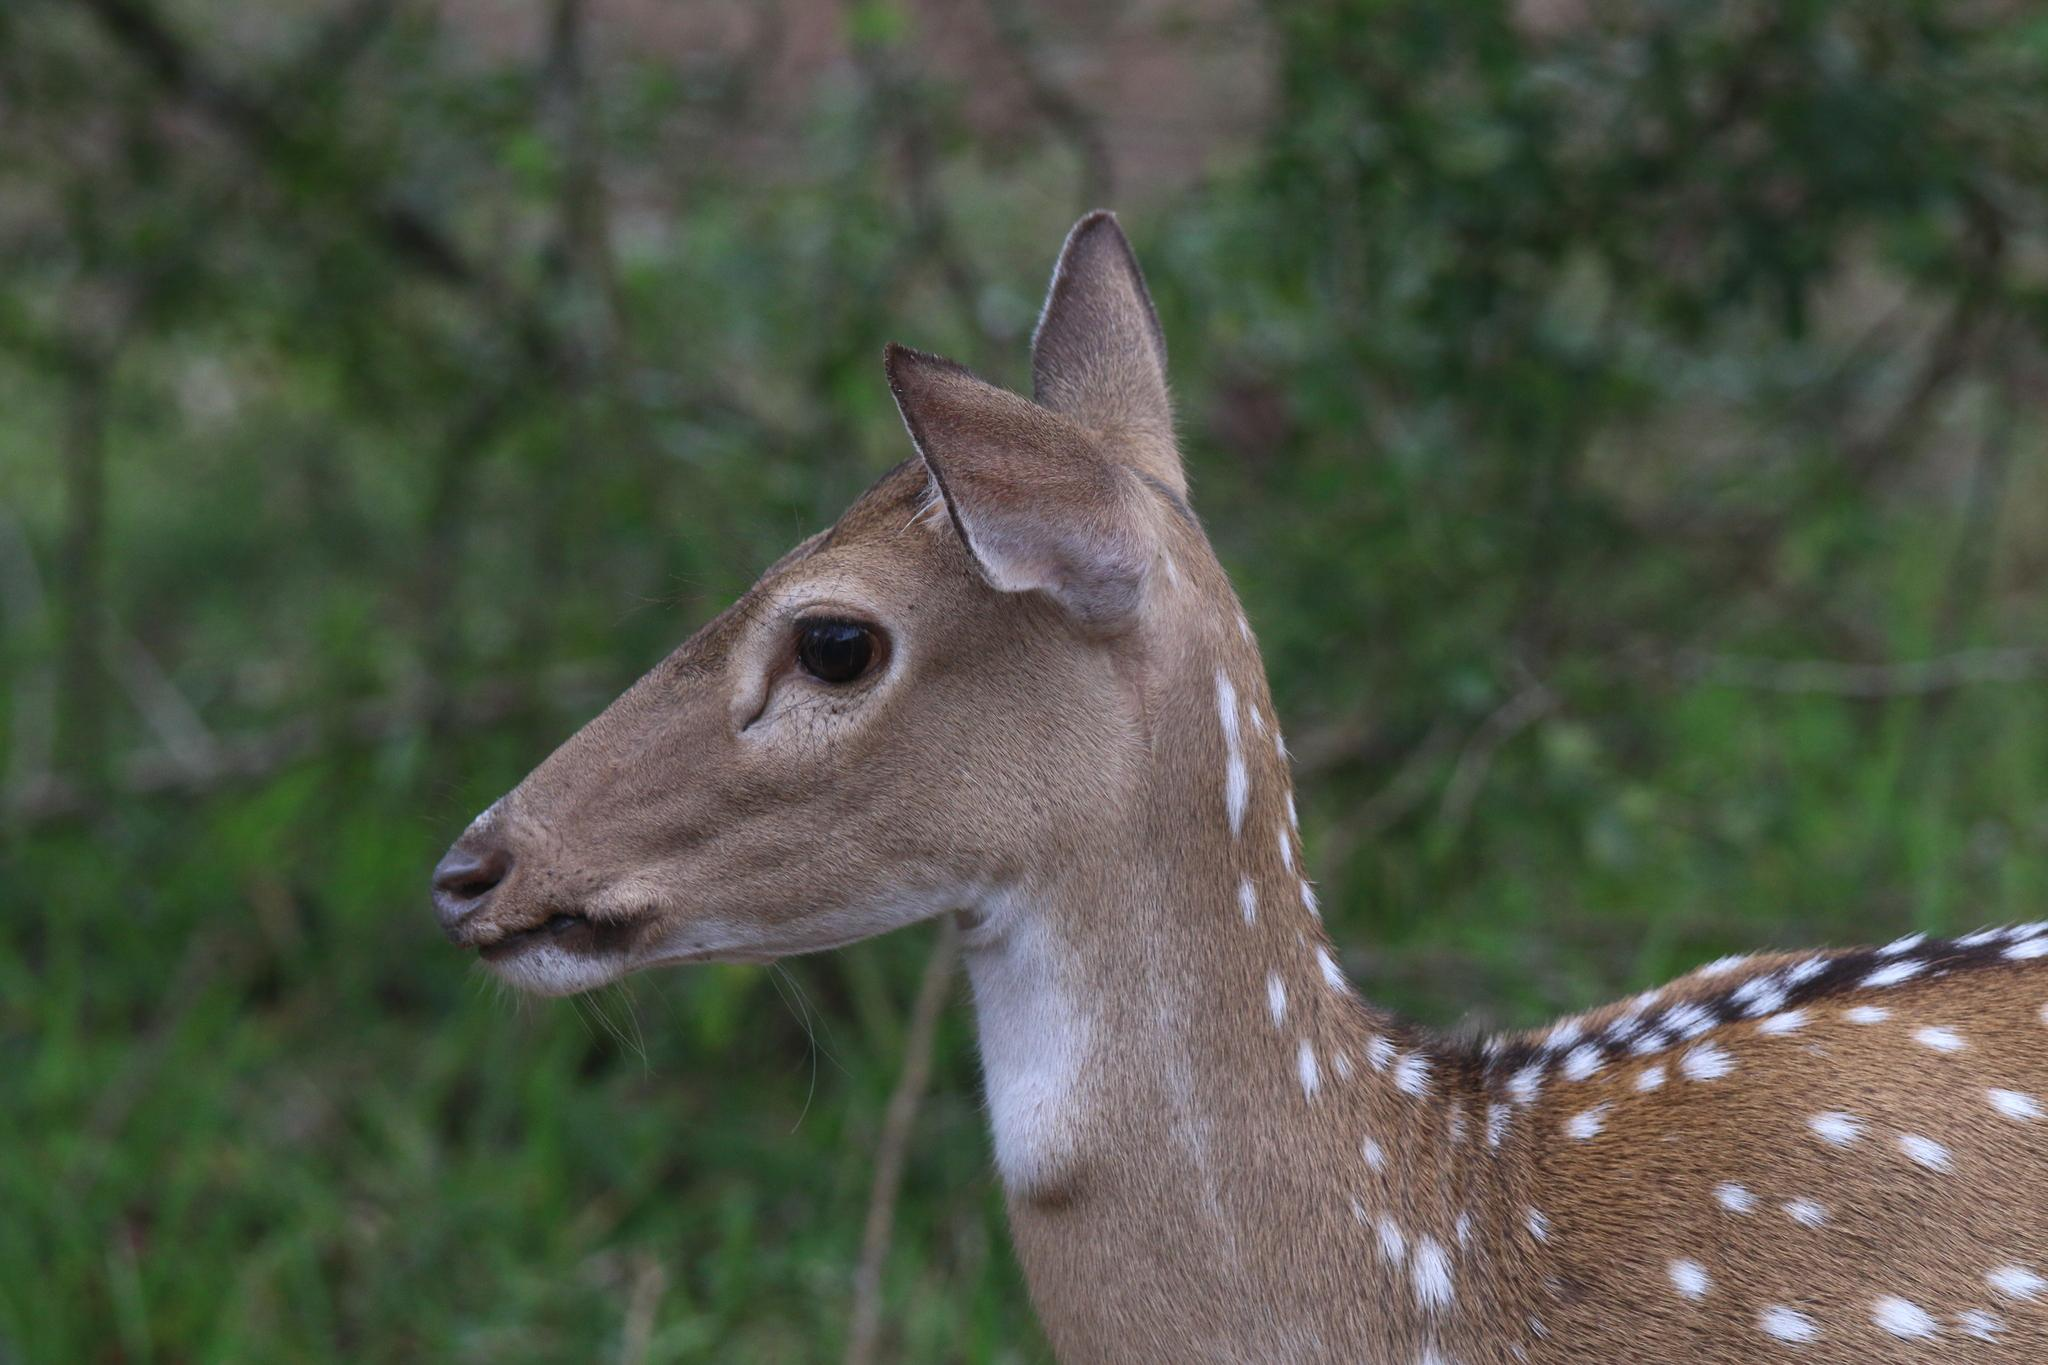Deer: (432, 212, 2046, 1363)
